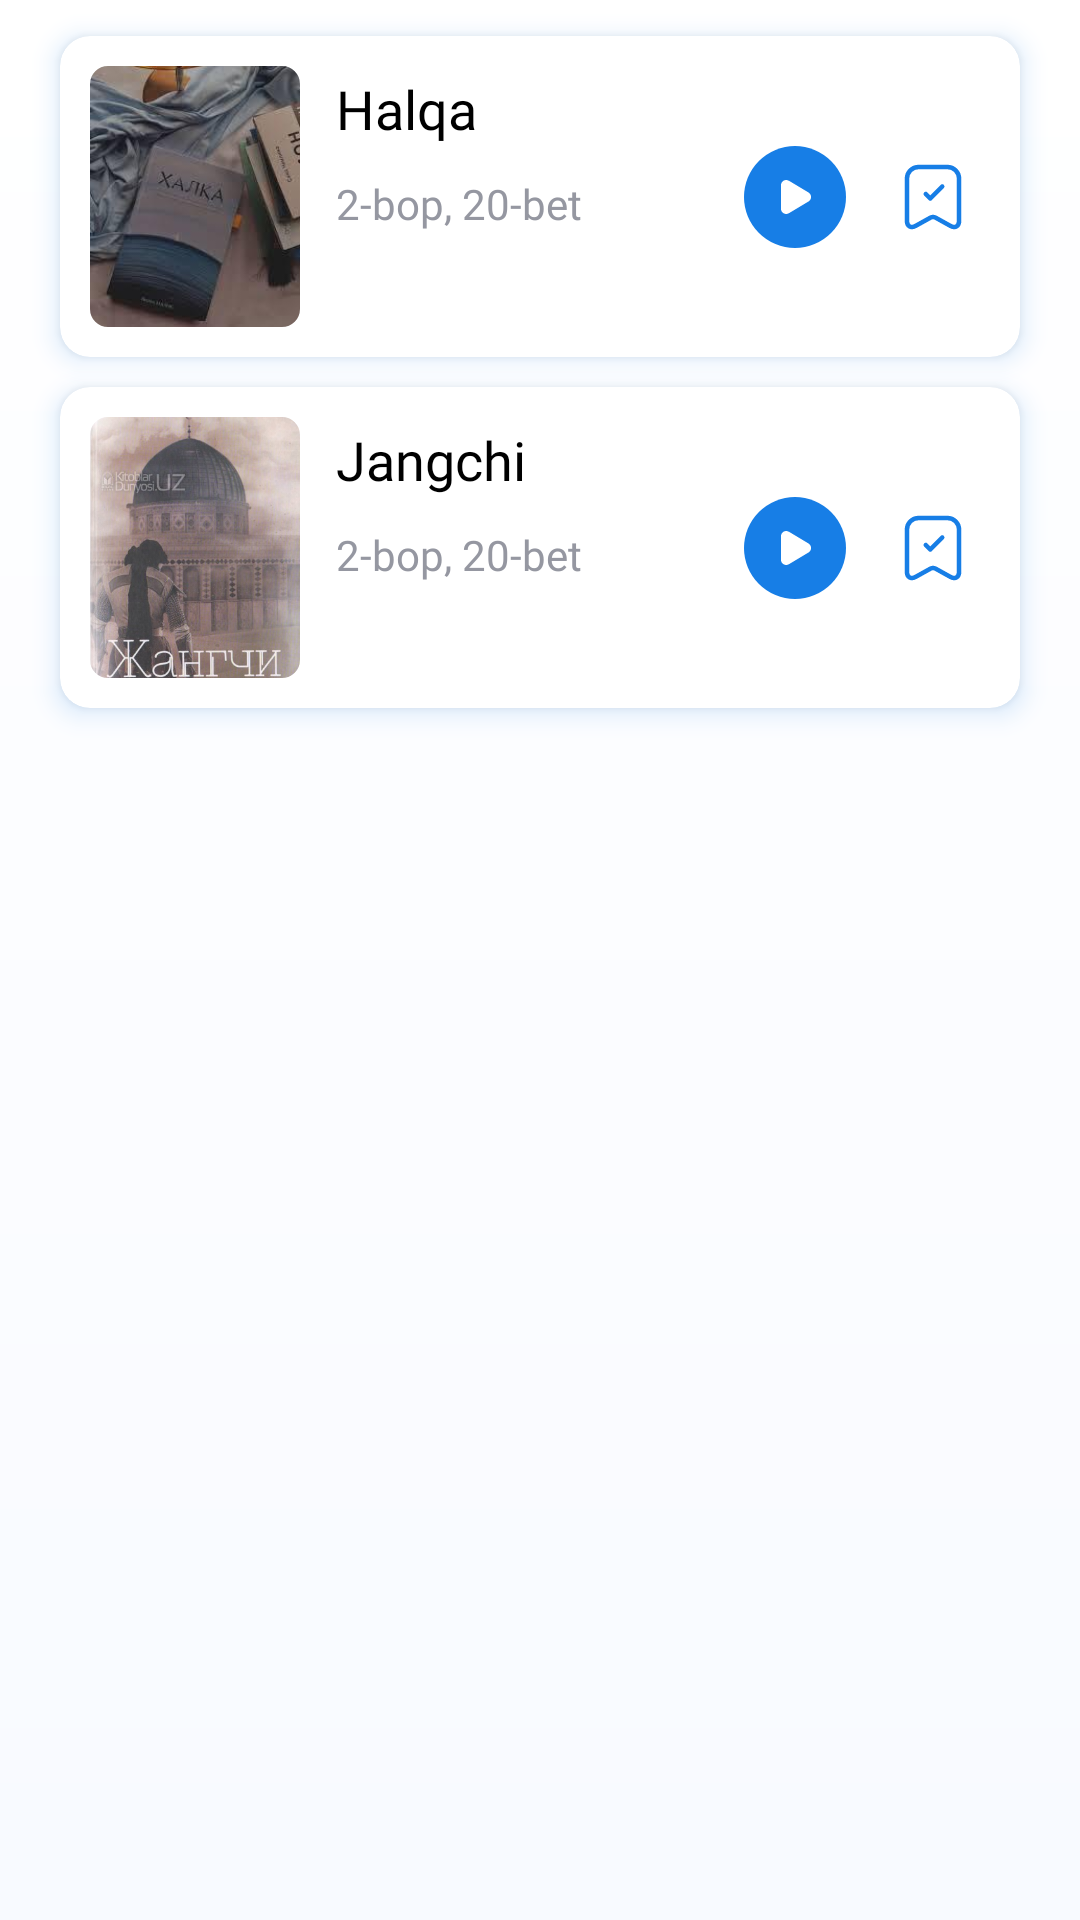

Where icons sit on this 1080px x 1920px app screen, as (x1, y1, x2, y2):
play: (744, 146, 846, 248), (744, 497, 846, 599)
saved books: (904, 164, 962, 230), (904, 515, 962, 581)
